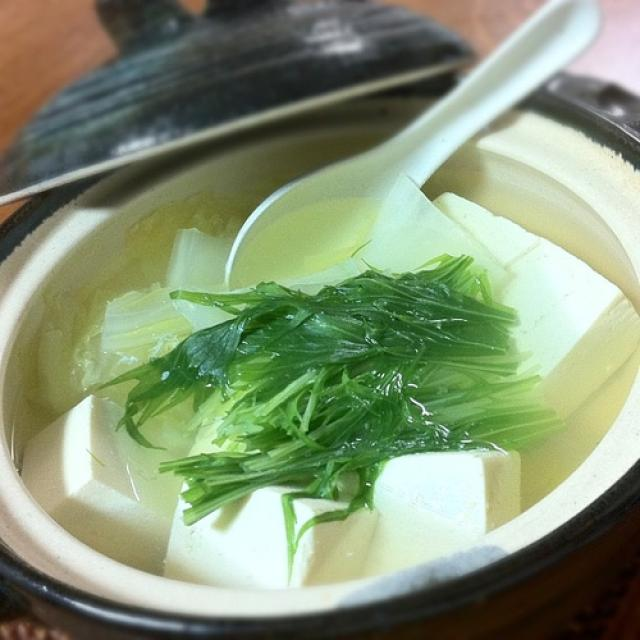豆腐料理: (36, 151, 634, 591)
